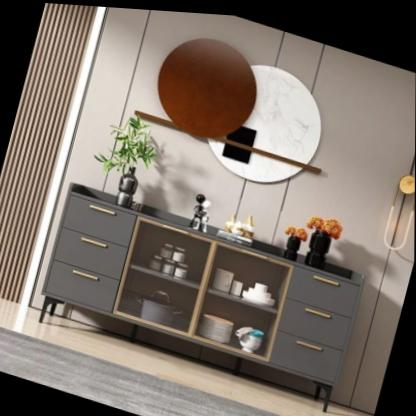Cupboard: (38, 182, 365, 409)
Wall Panel: (0, 0, 122, 331)
